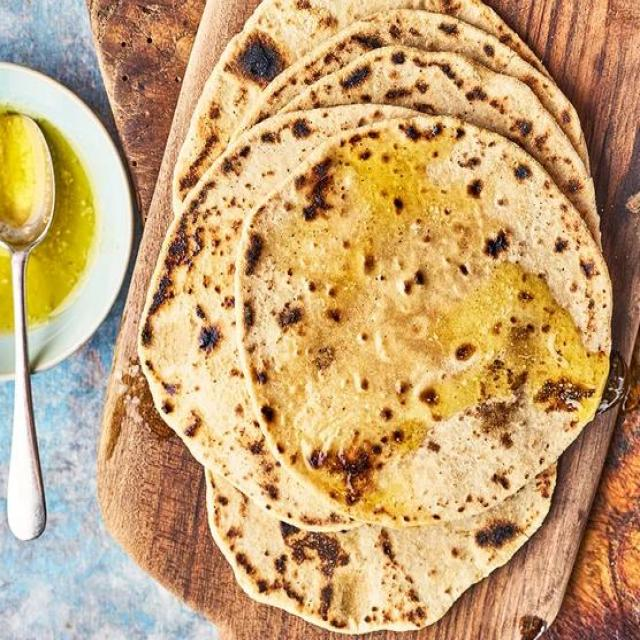roti: (241, 120, 613, 524), (135, 101, 421, 532), (173, 0, 558, 205), (286, 53, 603, 248), (202, 463, 557, 636)
